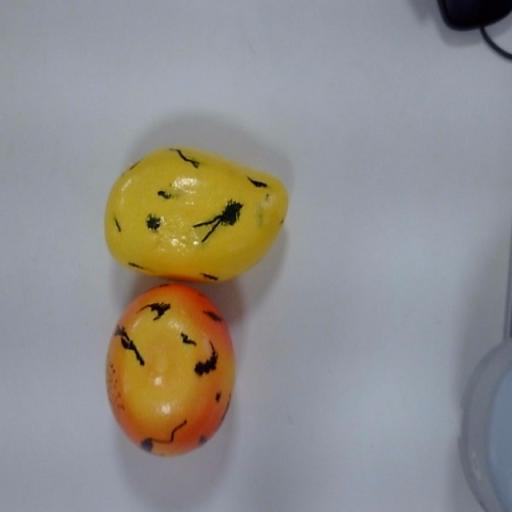Defective: (100, 126, 310, 283), (101, 284, 250, 464)
